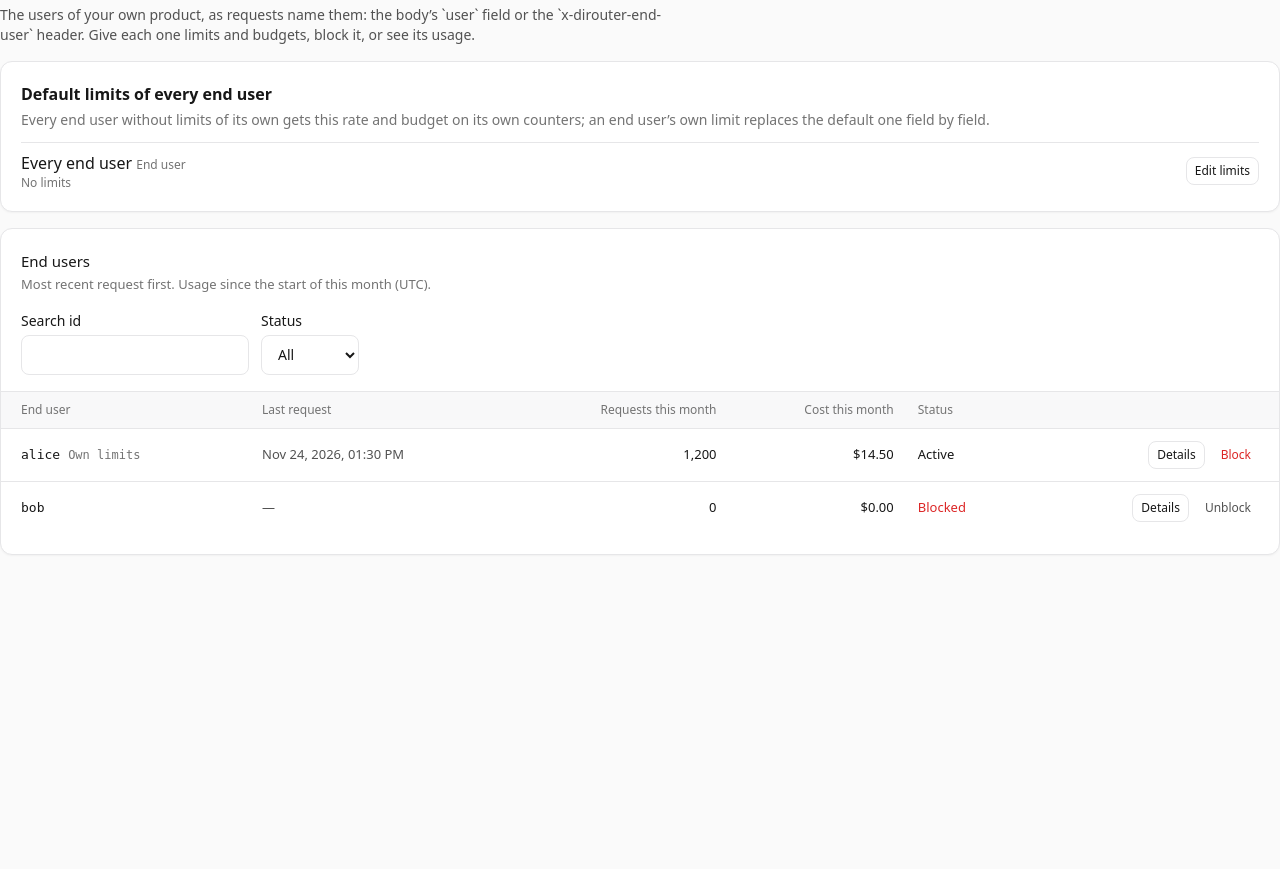
Test: end users page (card 33.2) › sets the defaults every end user gets and shows one end user’s days and limits
This screenshot has width=1280, height=869.
Click the button with aria-label "Edit limits Every end user" at (1222, 171), box top-left (1186, 157), bottom-right (1259, 185)
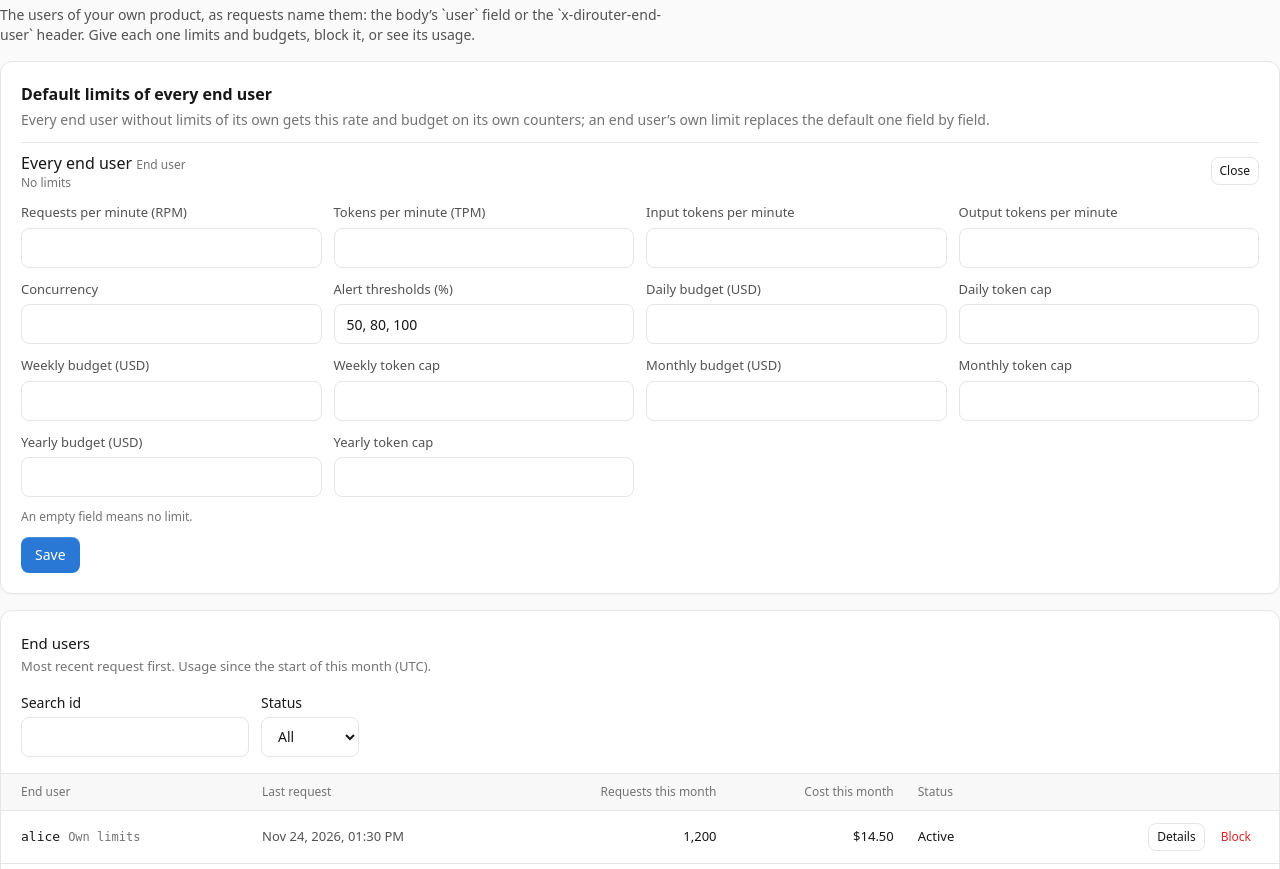
Type "2" into the field labelled "Daily budget (USD)" at (796, 324), box top-left (646, 304), bottom-right (946, 344)
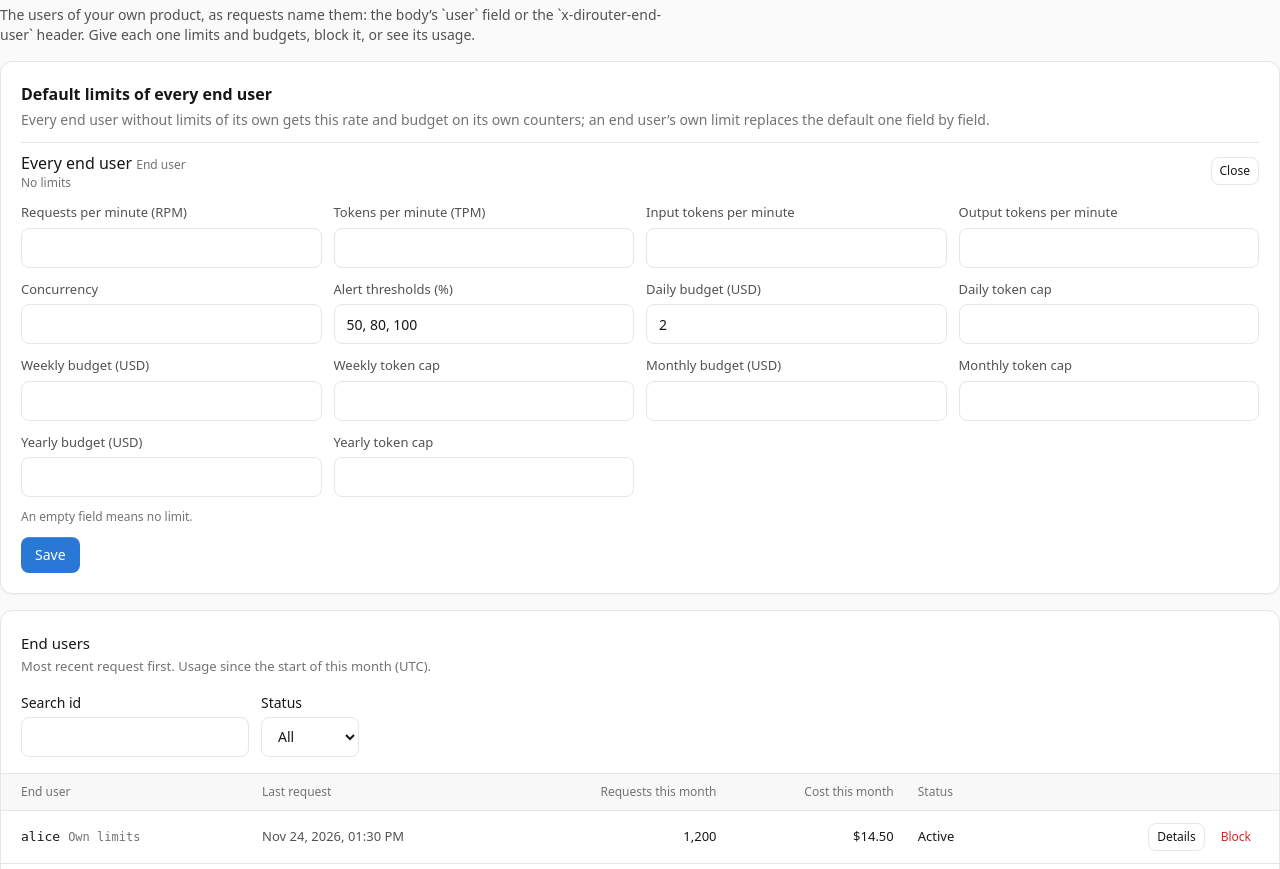
Click the button "Save" at (50, 555), box top-left (21, 537), bottom-right (80, 573)
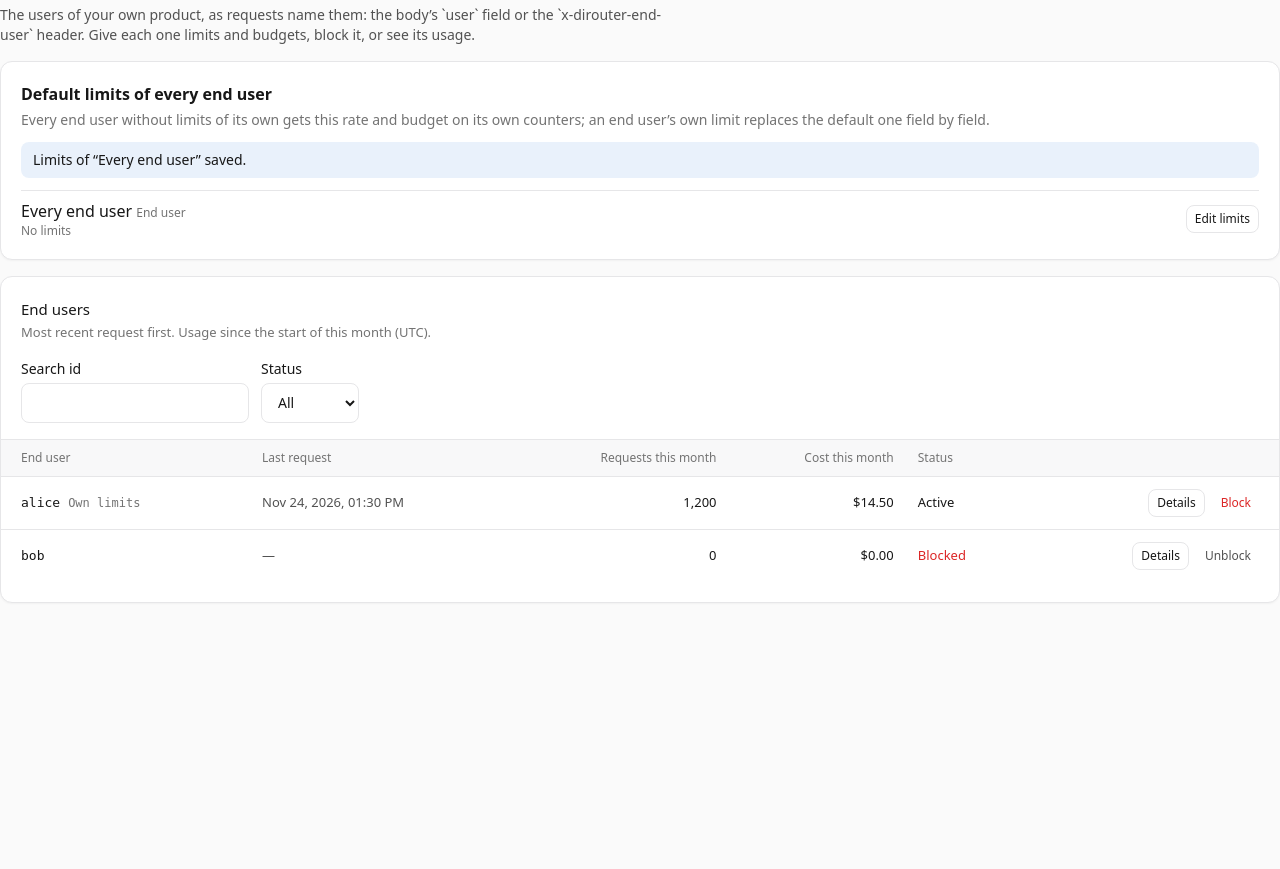
Click the button with aria-label "Details alice" at (1176, 502), box top-left (1148, 488), bottom-right (1205, 516)
(page scrolled)
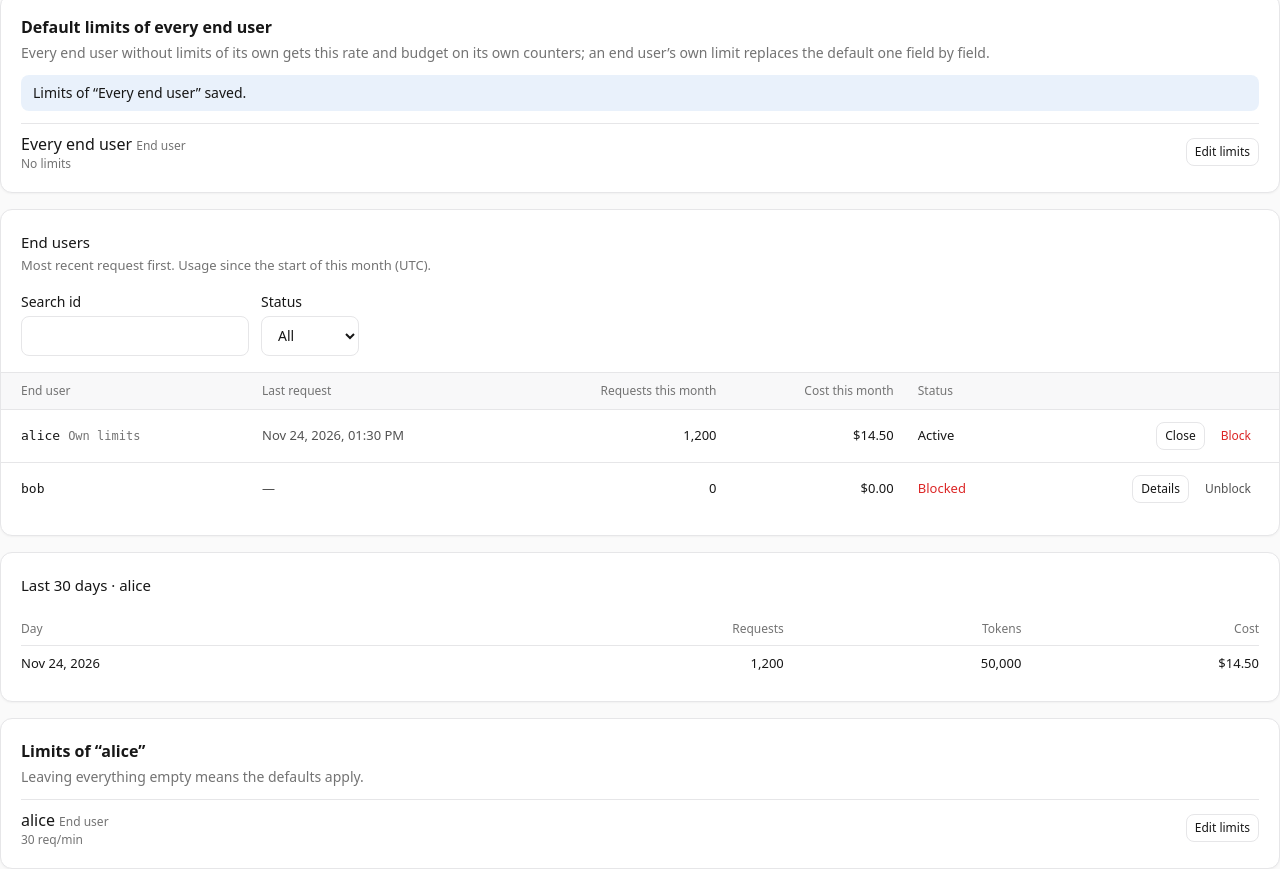
Expected: the table with test id "end-user-days" shows "$14.50", top-left (1218, 654), bottom-right (1259, 672)
Expected: the list item with test id "limits-end_user-alice" shows "30 req/min", top-left (21, 831), bottom-right (83, 848)
